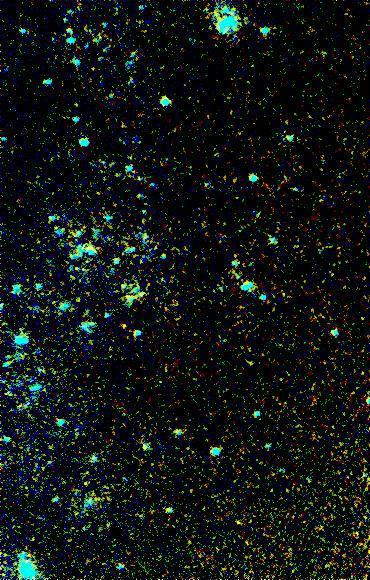star: (107, 310, 137, 340)
